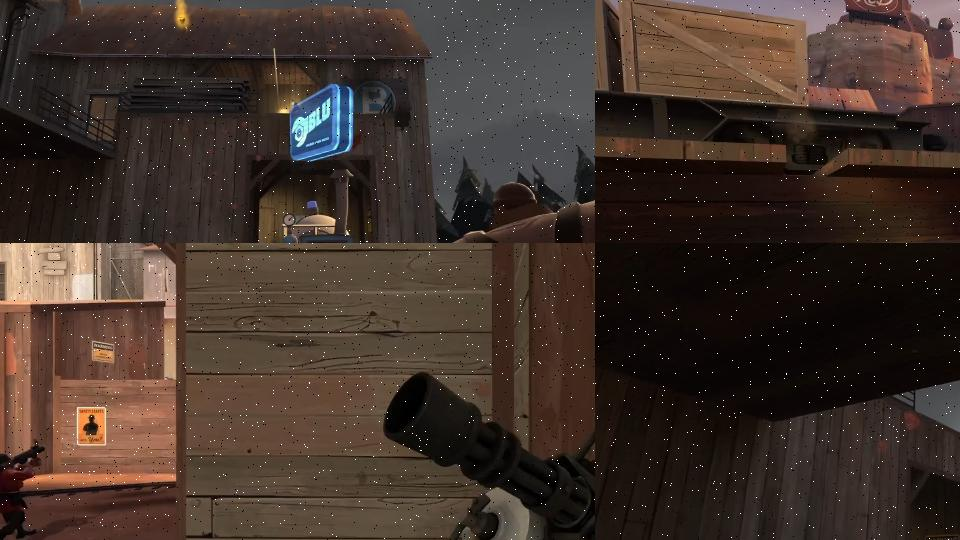Enemy: (380, 270, 595, 540), (0, 437, 46, 540)
